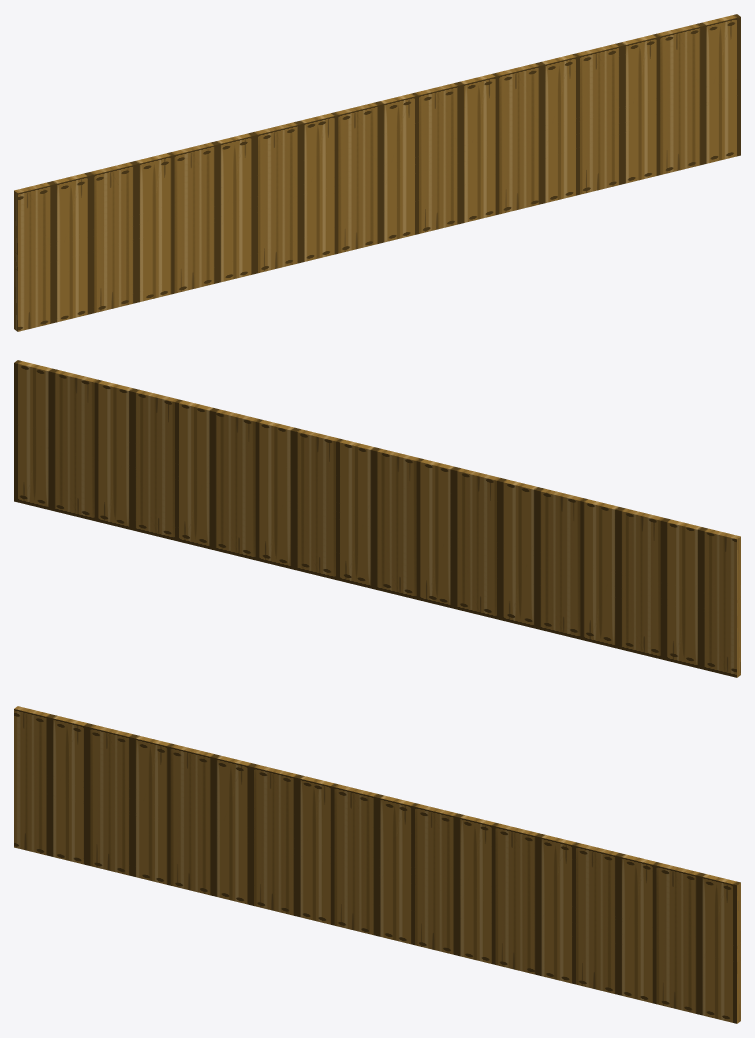
Rendered from muutr.fbx.
3 renders of one model, top to bottom at view 1: azimuth 30°, elevation 25°; view 2: azimuth 150°, elevation 25°; view 3: azimuth 330°, elevation 25°, orthographic.
Visible parts, largest first — view 1: wall; view 2: wall; view 3: wall.
Part boxes in pixels (x1,y1,x2,y2): wall: (14,14,740,331); wall: (14,360,740,677); wall: (14,706,740,1023).
Size of the model in its own units: 0.2404 by 0.044 by 0.00222.
1 material, 1 textured.
